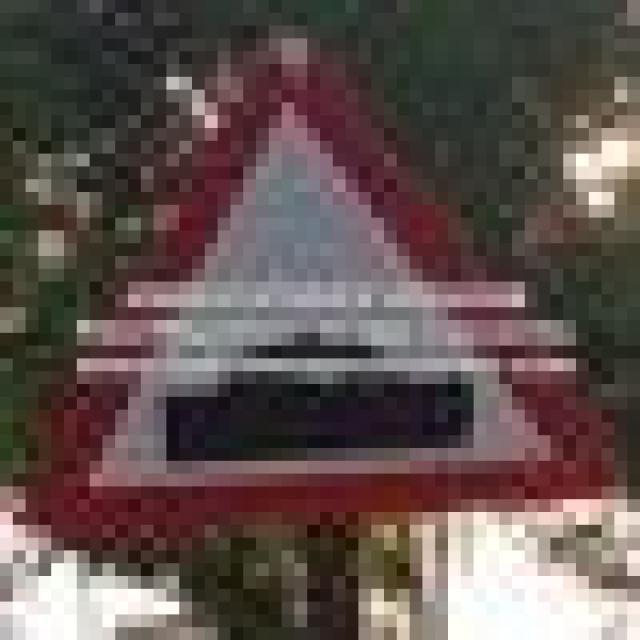horn_prohibited: (26, 51, 627, 499)
